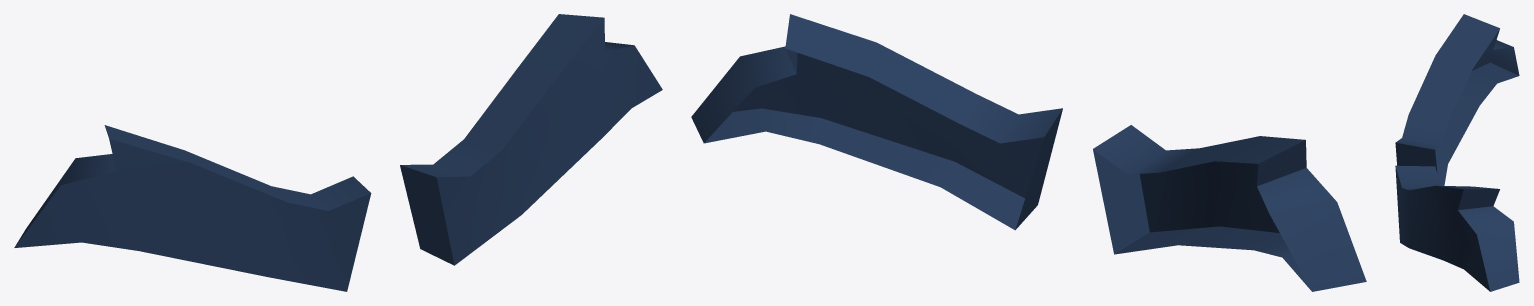
Rendered from Brow_Blue_7.fbx.
3 renders of one model, left to right at view 1: azimuth 30°, elevation 25°; view 2: azimuth 150°, elevation 25°; view 3: azimuth 270°, elevation 25°, orthographic. The views are drawn at different scales.
Parts seen in each view (by area): view 1: Brow_Blue_7; view 2: Brow_Blue_7; view 3: Brow_Blue_7.
Boxes of the visible parts, x1,y1,x2,y2 form: Brow_Blue_7: (14,14,662,291); Brow_Blue_7: (691,14,1366,291); Brow_Blue_7: (1395,14,1519,291).
Bounding box in the file's own units: 38.5 × 9.68 × 8.8.
